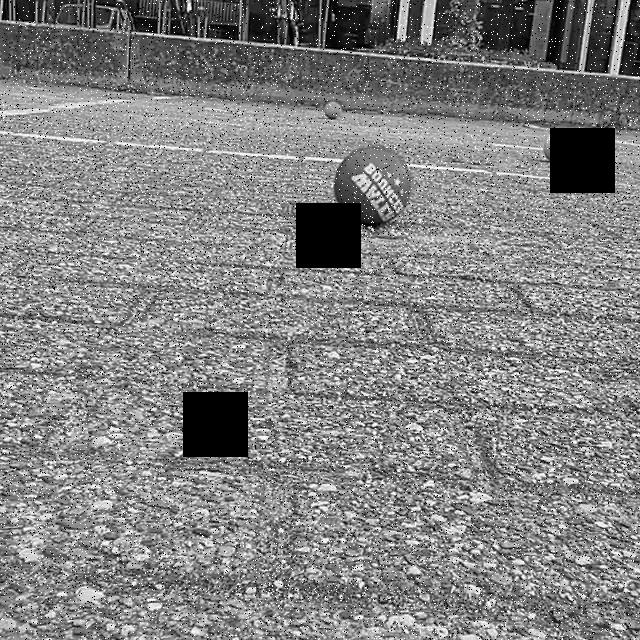ball: (540, 125, 575, 170), (322, 97, 344, 122)
